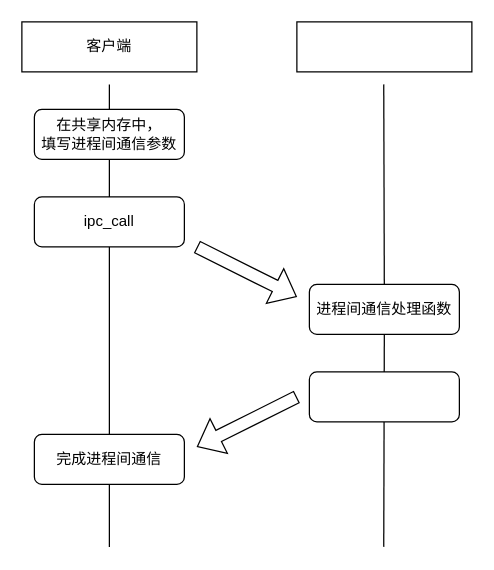
This 494x570 diagram has some shape labels left out. The shapes that lost their labels are listed below. From the top down, each one's centre as x and y in pixels, then its label:
At (384,46): "服务端".
At (383,396): "ipc_return".
